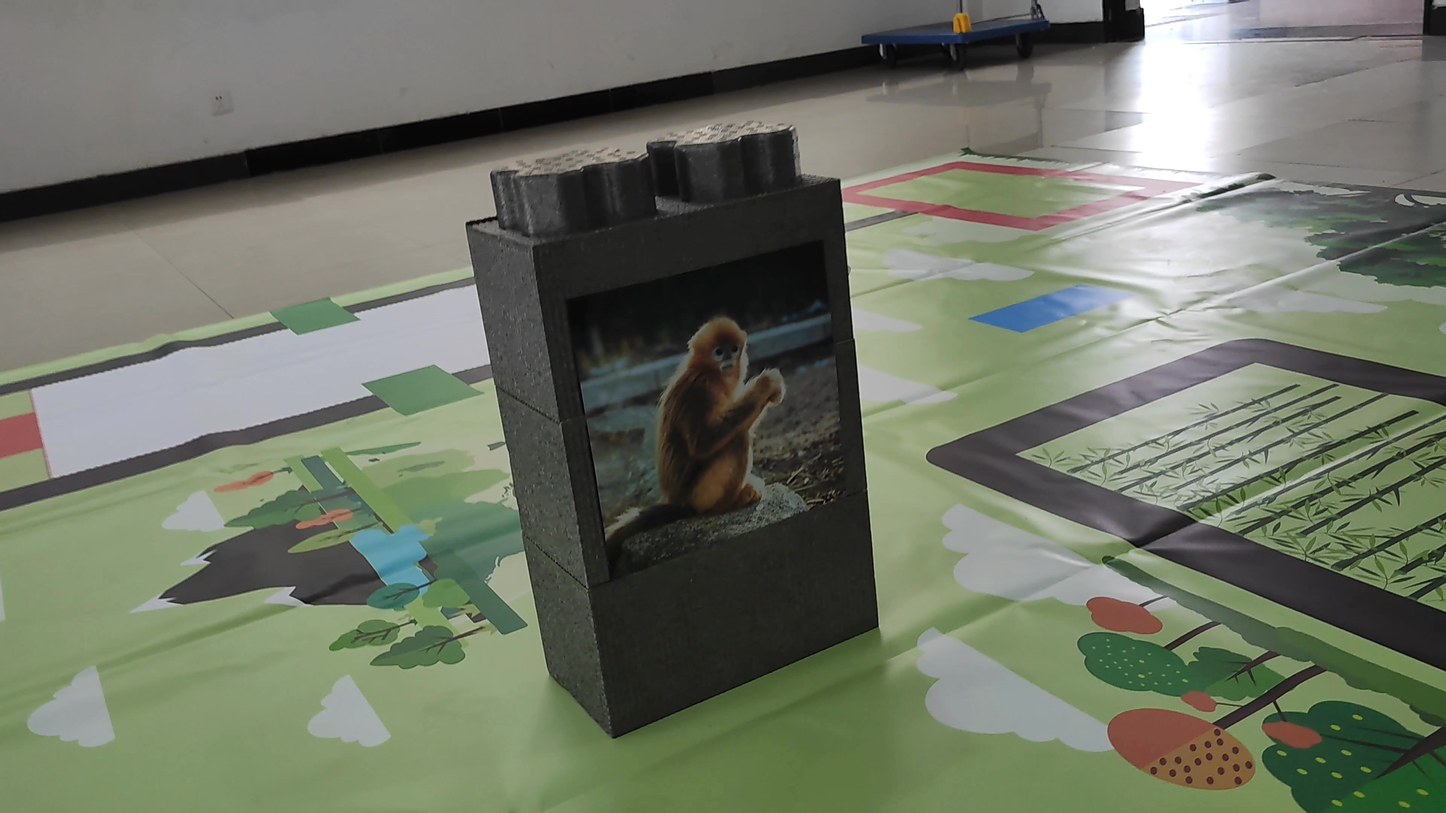monkey: (592, 307, 821, 538)
